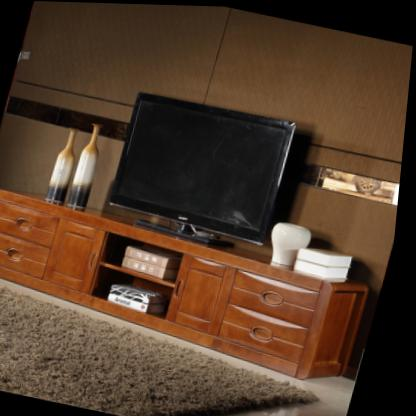TV stand: (0, 189, 374, 378)
